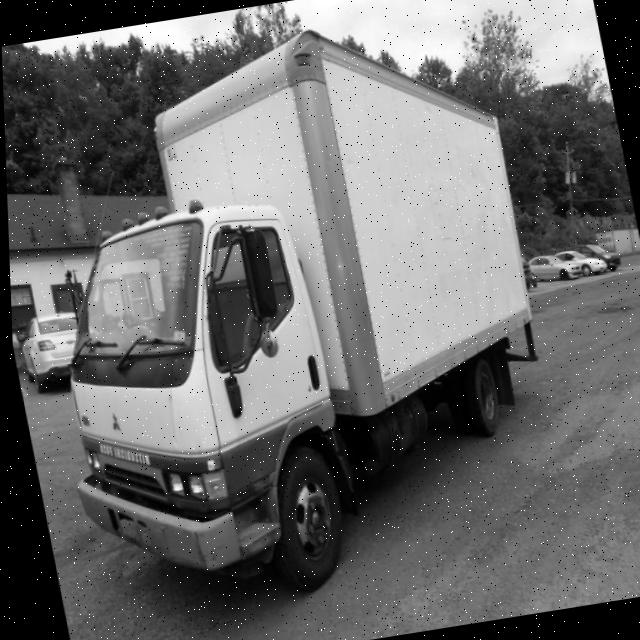truck: (10, 160, 387, 622)
